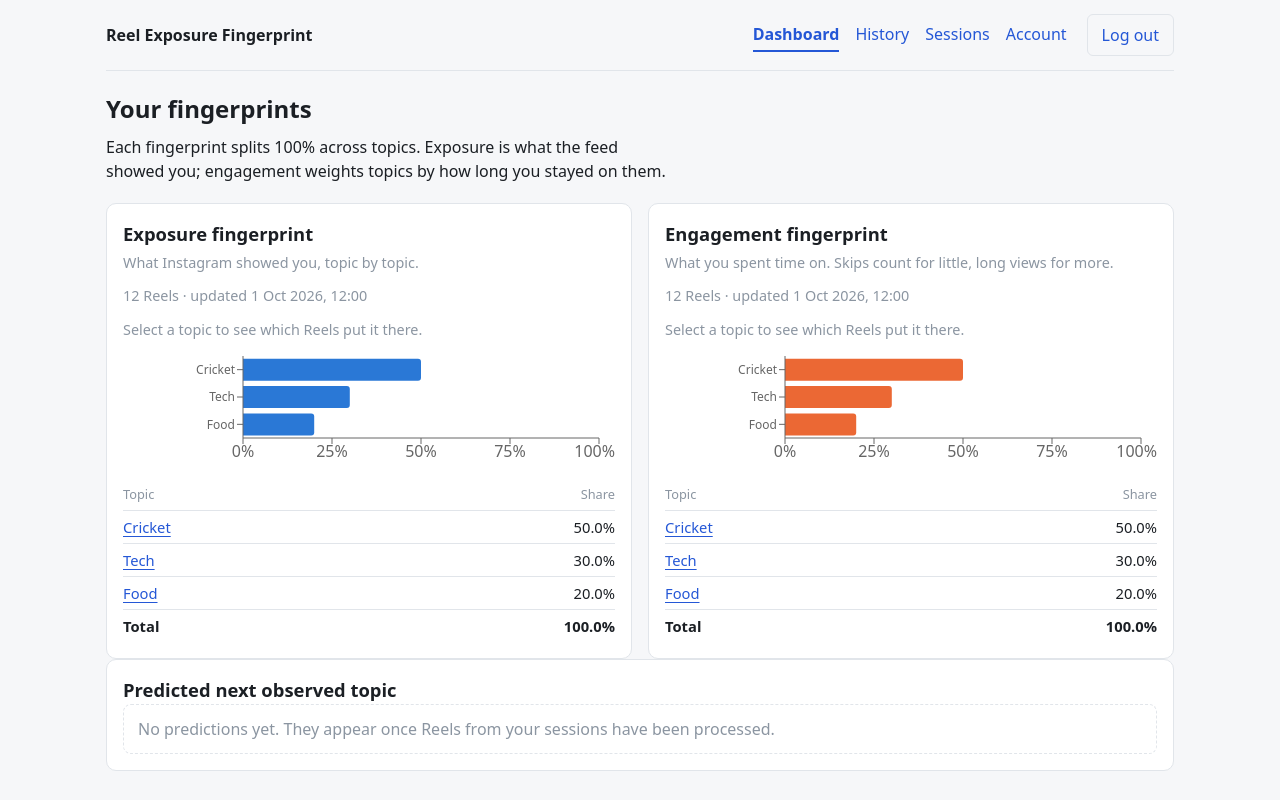
Test: topic evidence › closes with Escape and returns focus to the topic
Step 1. Click the button with aria-label "Why Cricket?" → x=147, y=527, box [123,516,171,538]
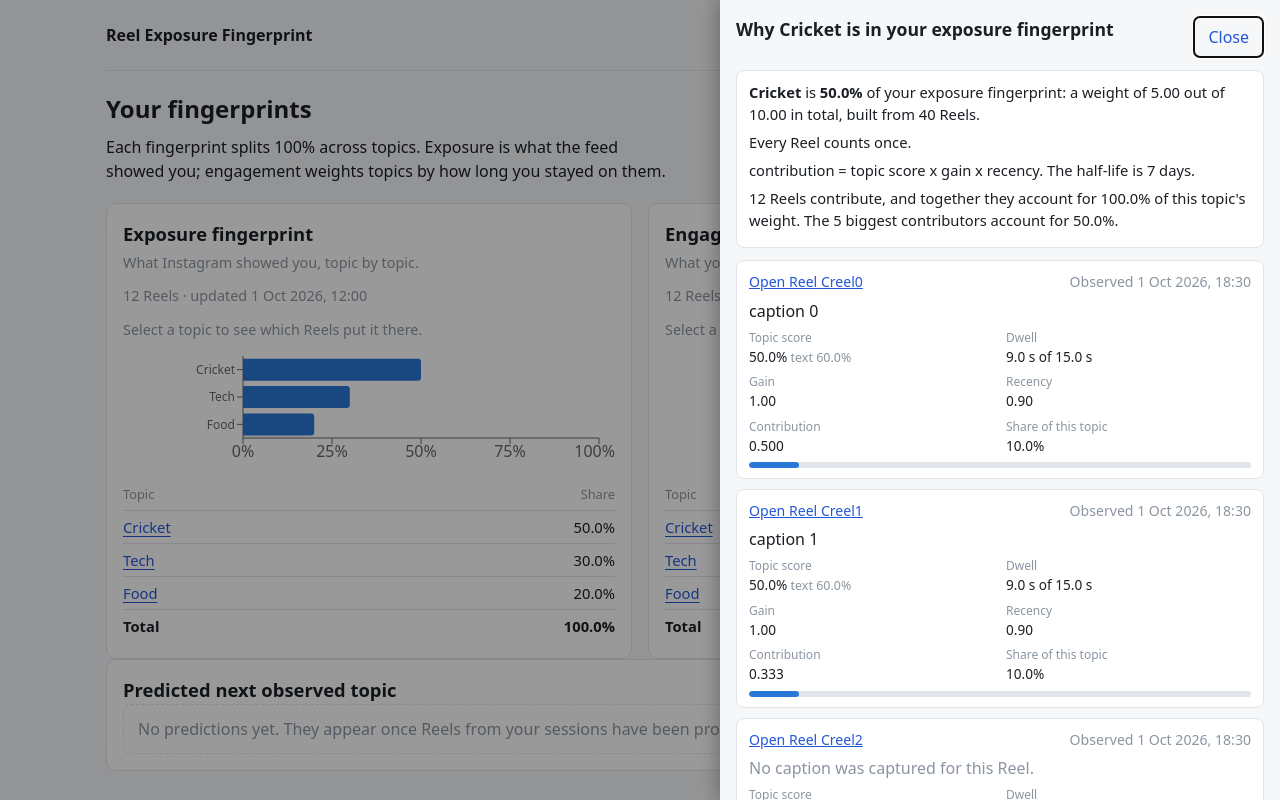
Expected: the dialog is shown, [720,0,1279,799]
Step 2. Press Escape
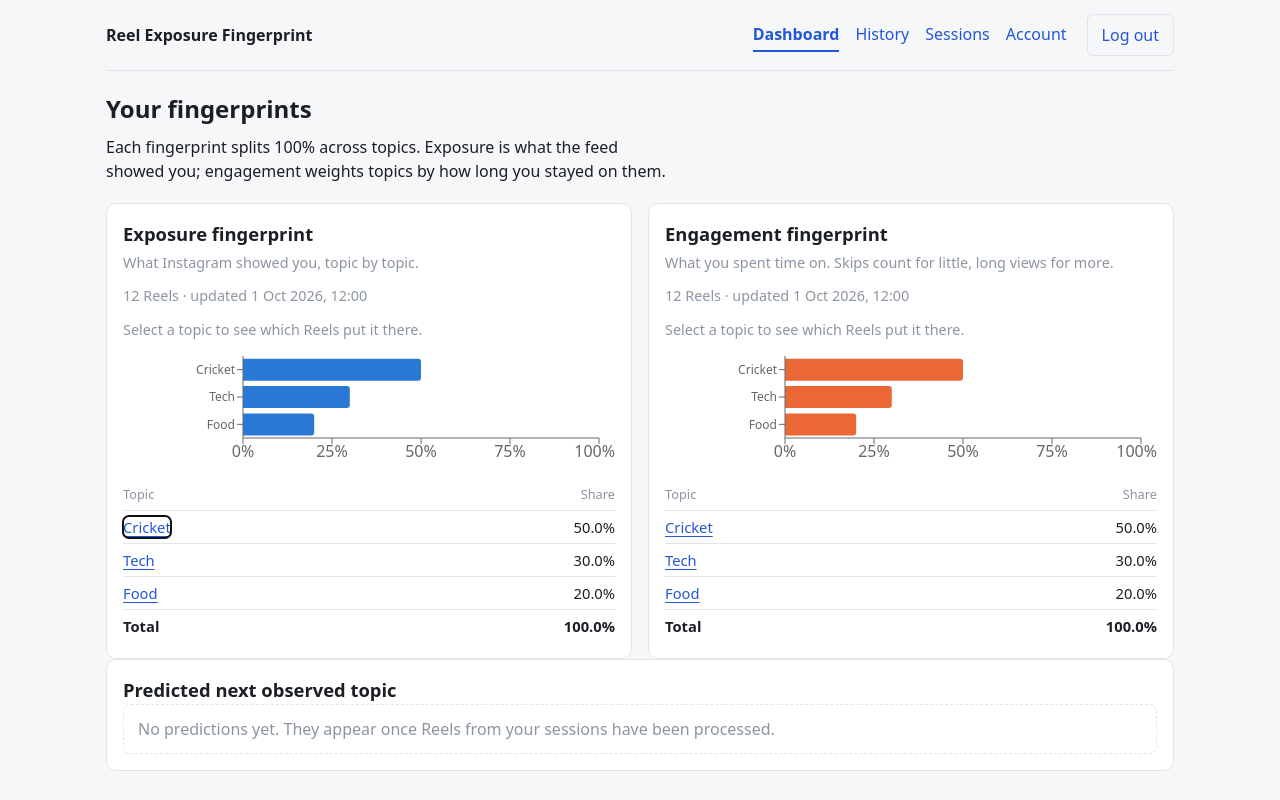
Expected: the dialog is gone
